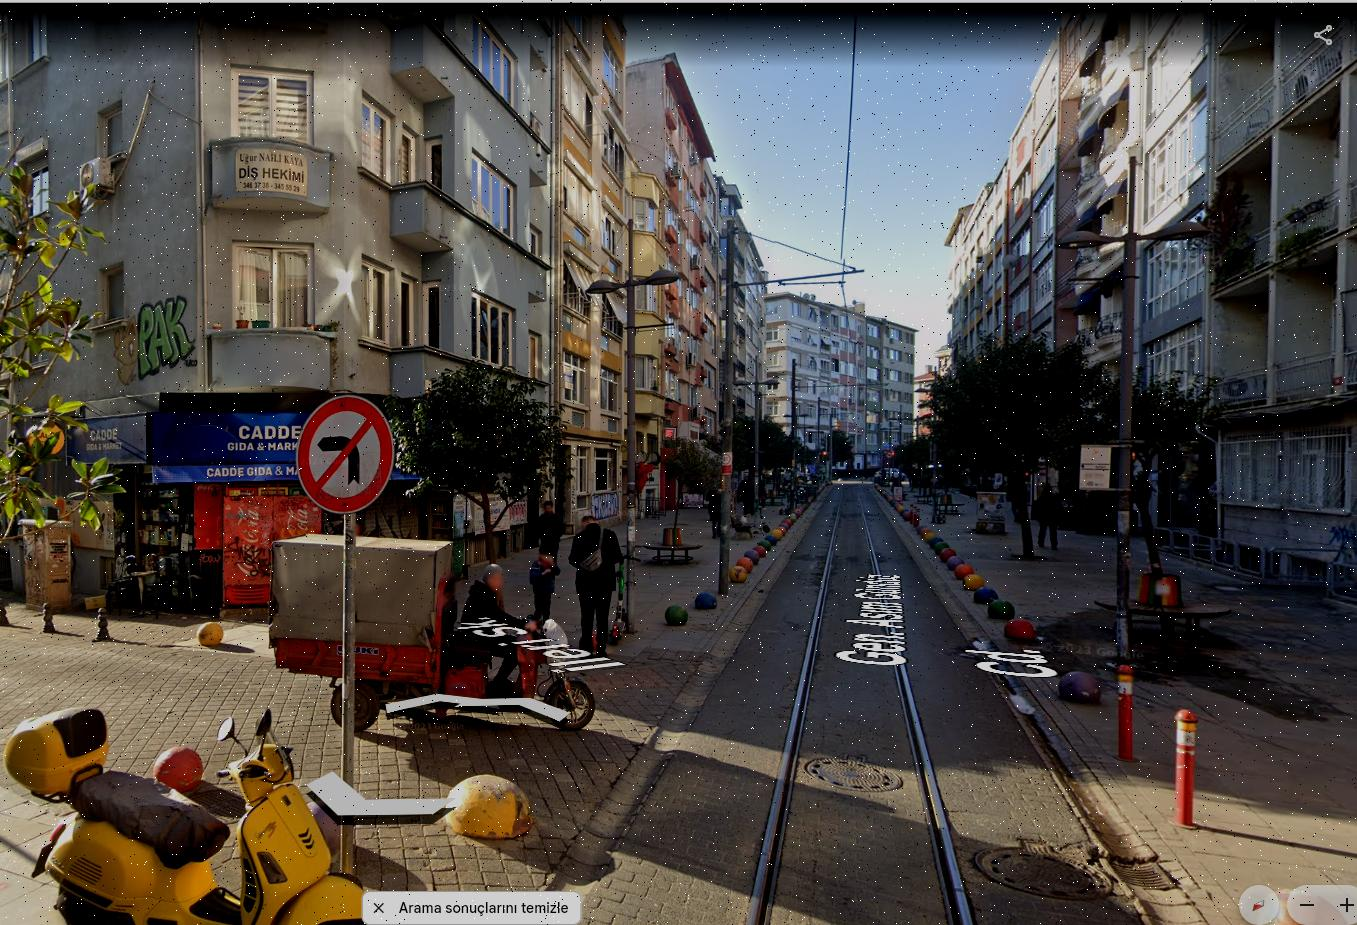leftturnsareforbidden: (304, 401, 386, 510)
